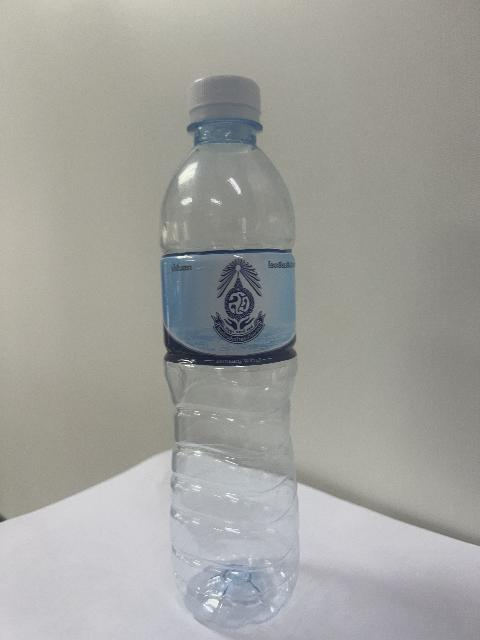bottle: (161, 76, 298, 627)
